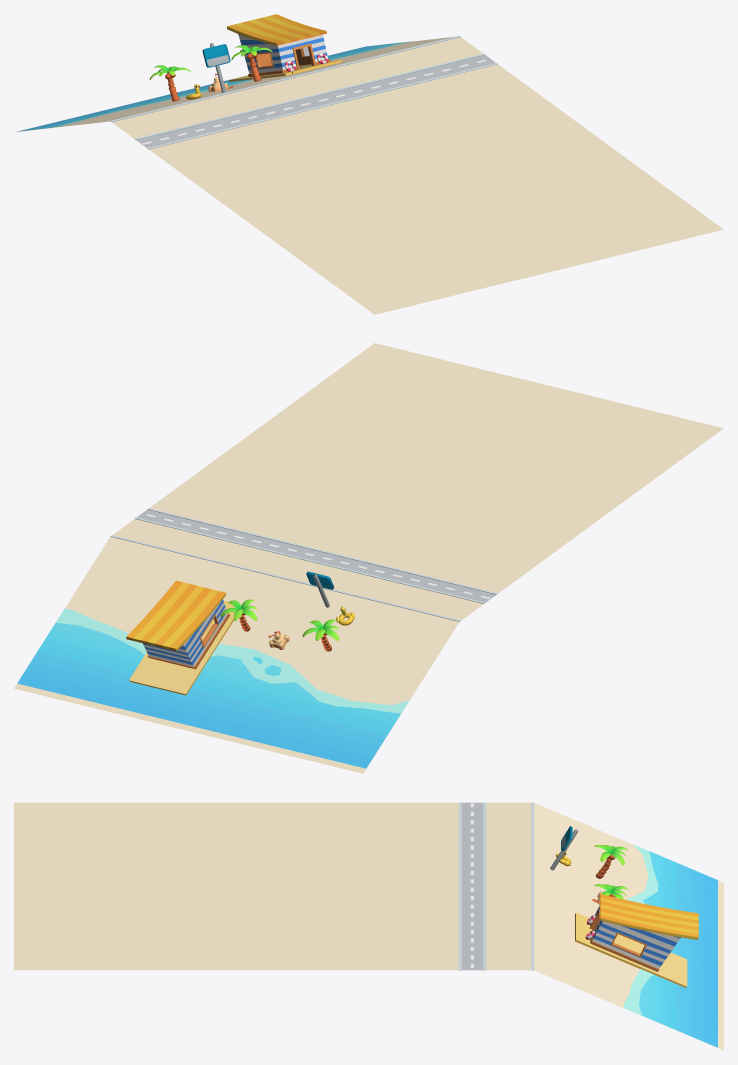
The model's file is 03_Envi.fbx.
3 views of the same model, one above another, from view 1: azimuth 30°, elevation 25°; view 2: azimuth 150°, elevation 25°; view 3: azimuth 270°, elevation 25° (orthographic).
Parts seen in each view (by area): view 1: 03_CarPlane.004, 03_Parking.004, 03_beachshop, 03_Road.004, 03_Plane.003, 03_Plane.004, 03_Street Light.006; view 2: 03_CarPlane.004, 03_Plane.003, 03_Plane.004, 03_Parking.004, 03_beachshop, 03_Road.004, 03_beachshop.001; view 3: 03_CarPlane.004, 03_Plane.003, 03_Plane.004, 03_Parking.004, 03_beachshop, 03_Road.004, 03_beachshop.001, 03_Tree.001.
Part boxes in pixels (x1,y1,x2,y2): 03_CarPlane.004: [147, 63, 723, 314]; 03_Parking.004: [110, 35, 485, 140]; 03_beachshop: [227, 14, 330, 76]; 03_Road.004: [136, 55, 495, 147]; 03_Plane.003: [16, 36, 454, 131]; 03_Plane.004: [18, 41, 411, 131]; 03_Street Light.006: [202, 43, 230, 92]; 03_CarPlane.004: [147, 343, 723, 594]; 03_Plane.003: [14, 536, 459, 773]; 03_Plane.004: [17, 608, 409, 768]; 03_Parking.004: [110, 517, 485, 621]; 03_beachshop: [126, 580, 229, 669]; 03_Road.004: [137, 509, 496, 602]; 03_beachshop.001: [129, 601, 241, 695]; 03_CarPlane.004: [14, 802, 461, 970]; 03_Plane.003: [534, 803, 723, 1050]; 03_Plane.004: [624, 844, 717, 1047]; 03_Parking.004: [483, 802, 534, 970]; 03_beachshop: [589, 894, 698, 971]; 03_Road.004: [461, 802, 483, 970]; 03_beachshop.001: [575, 912, 687, 987]; 03_Tree.001: [594, 845, 627, 878].
Size of the model in its own units: 4000 by 1251 by 7156.
